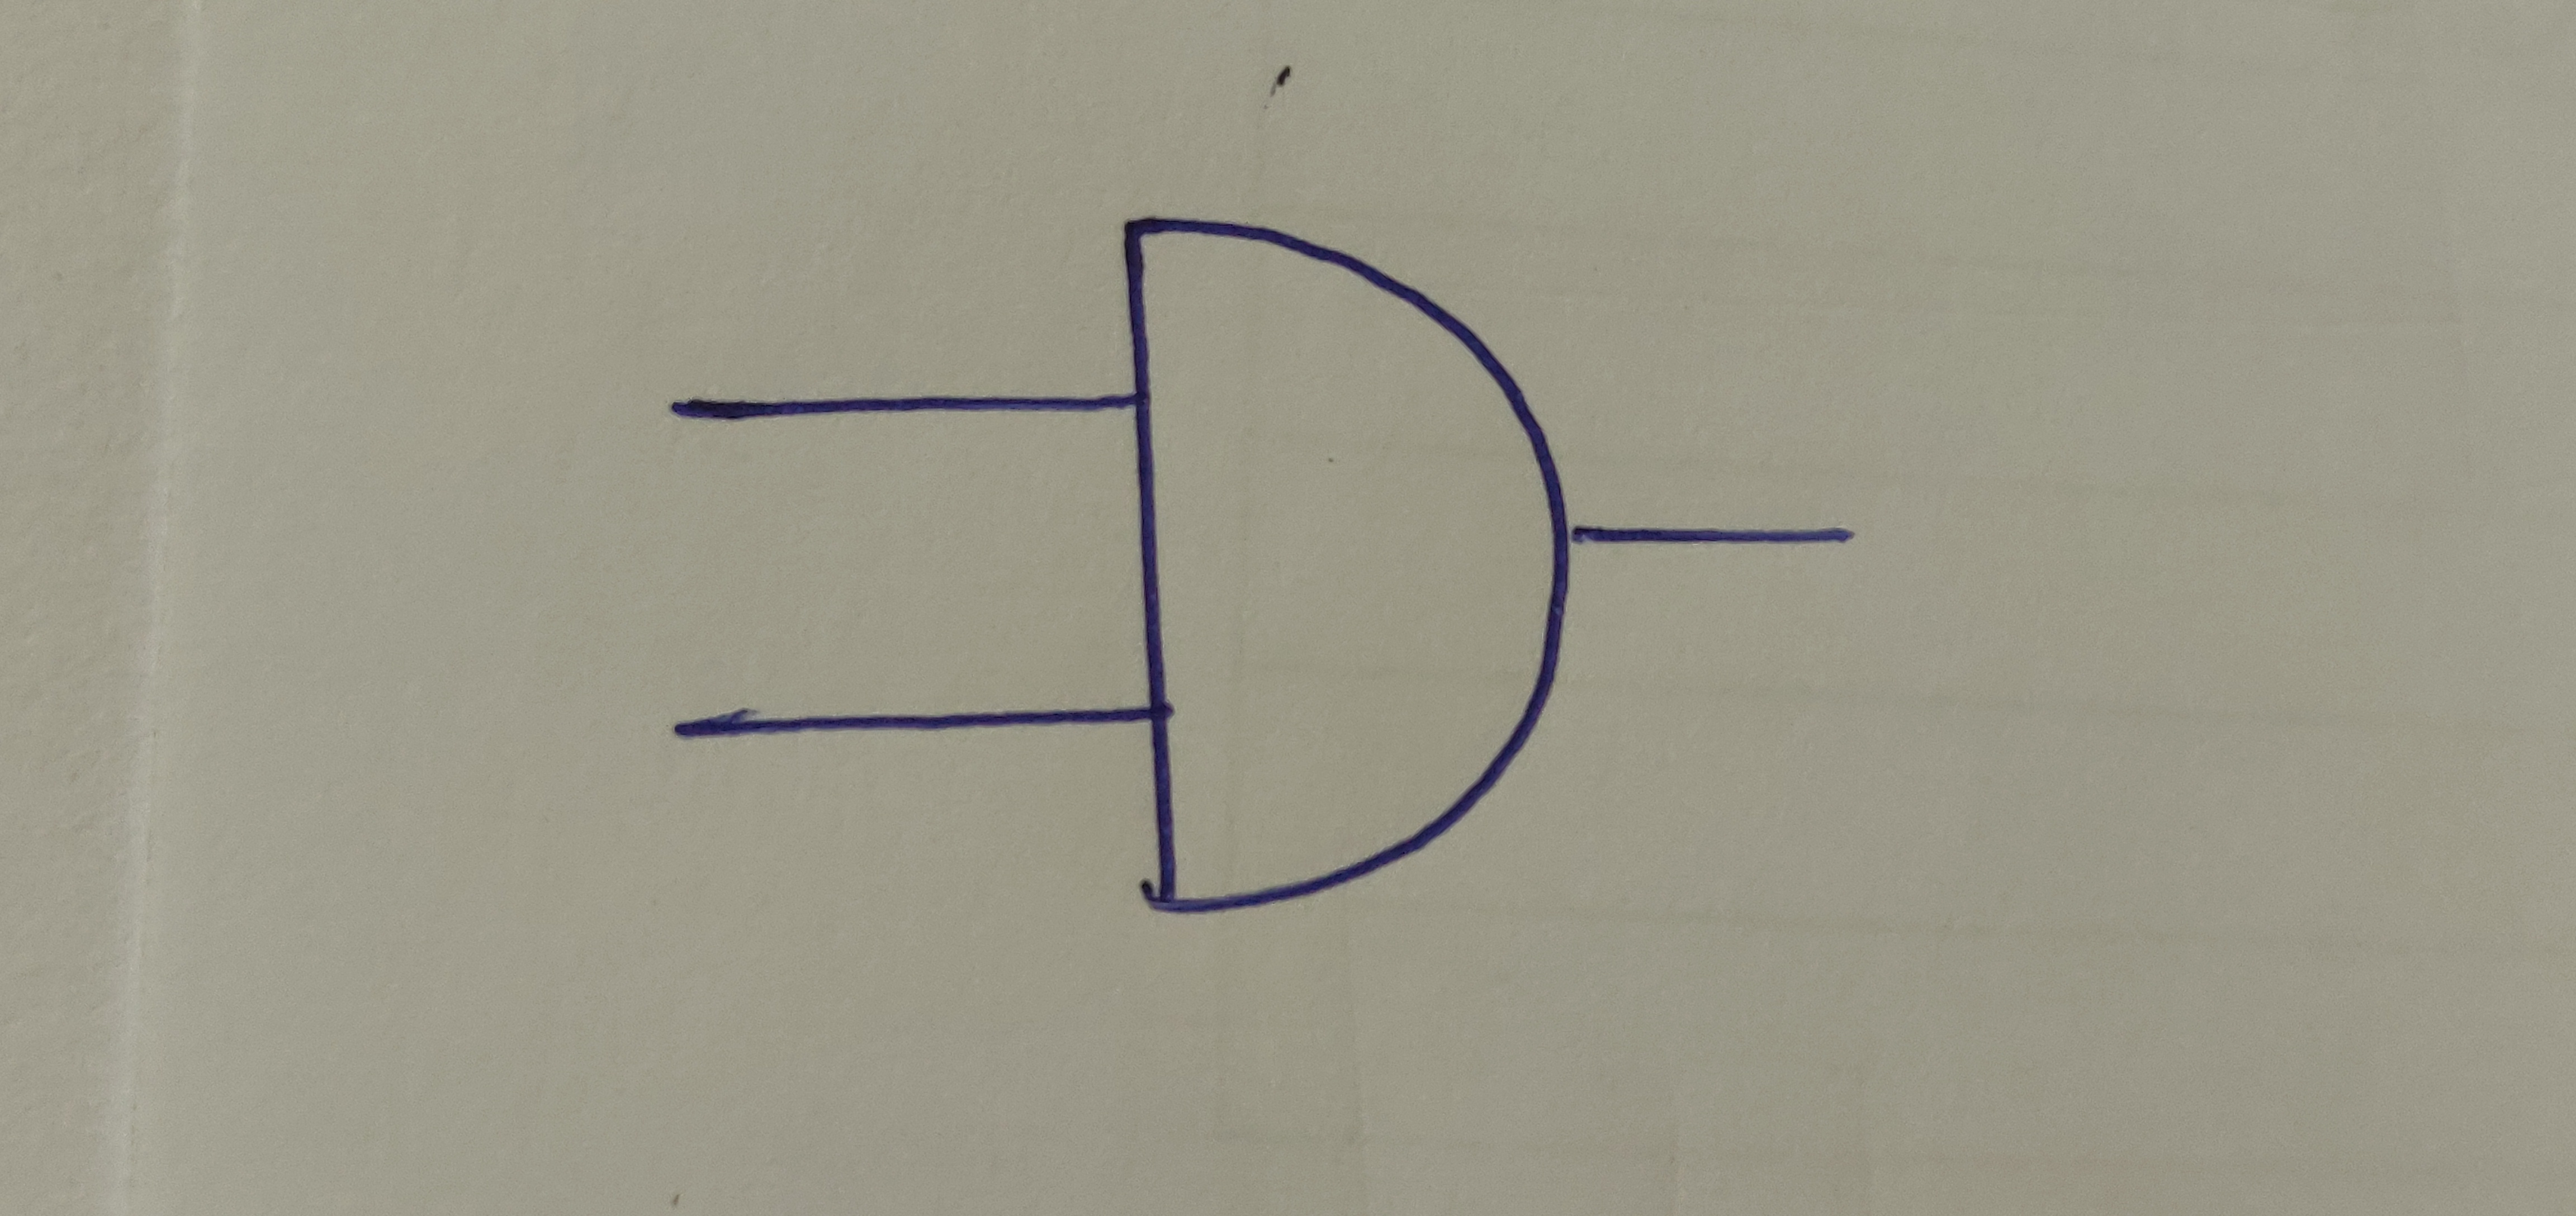and: (1115, 215, 1575, 917)
